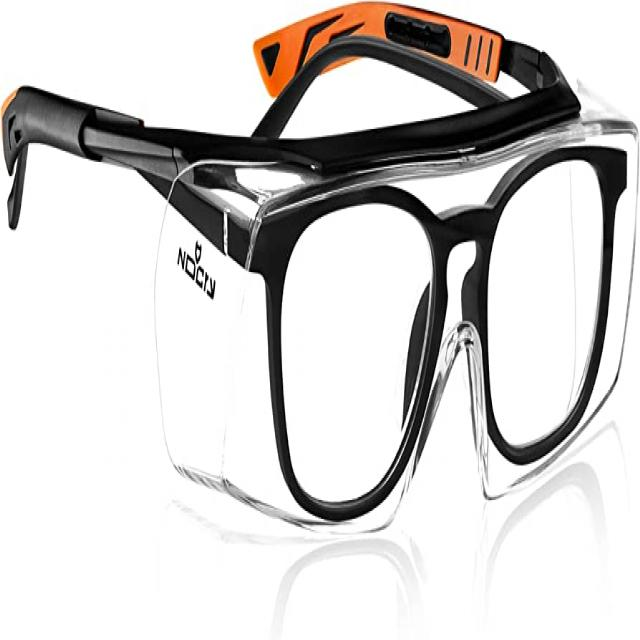Protective Glasses: (7, 0, 638, 557)
